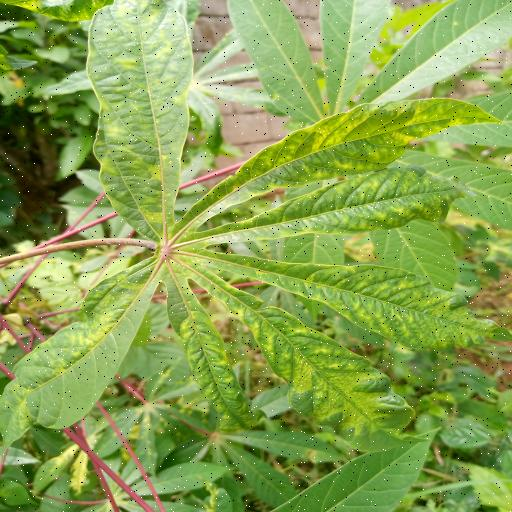Cassava_Mosaic: (0, 0, 512, 457)
